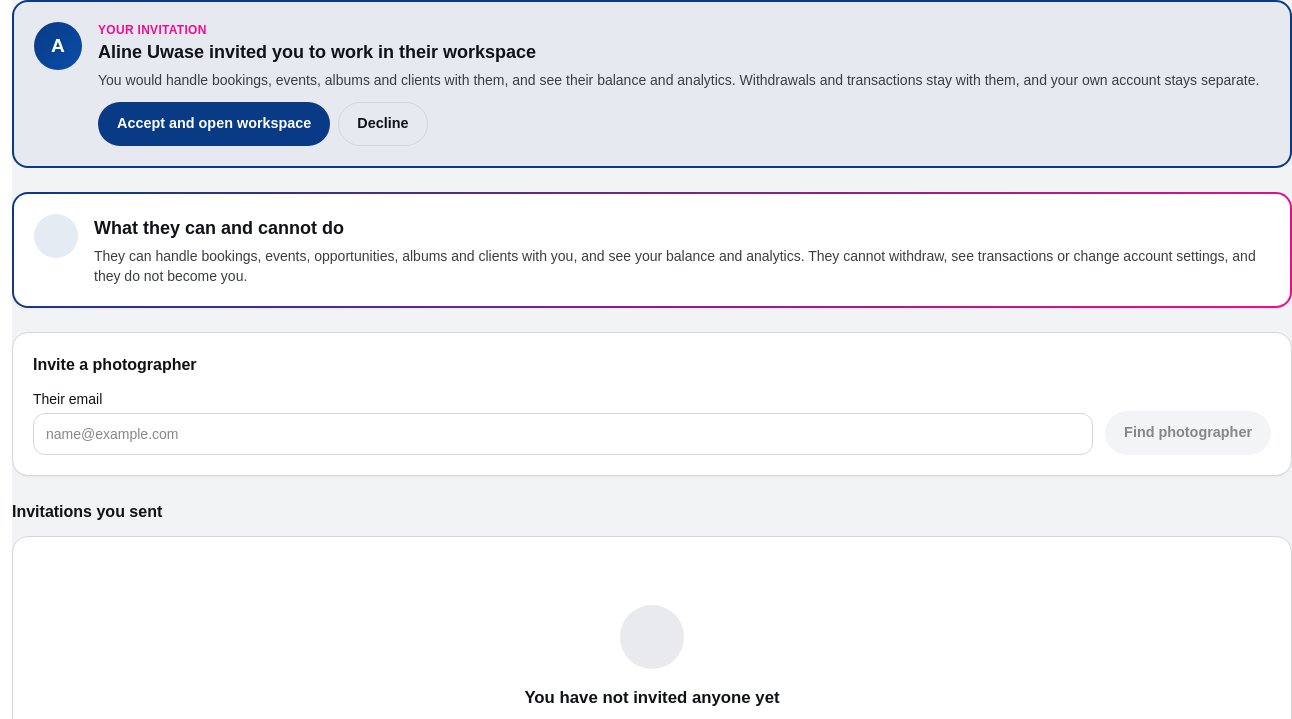
Test: opening an invitation from its link › shows a failed accept as an error and does not open the workspace
Click the button "Accept and open workspace" at (214,124), box [98,102,330,146]
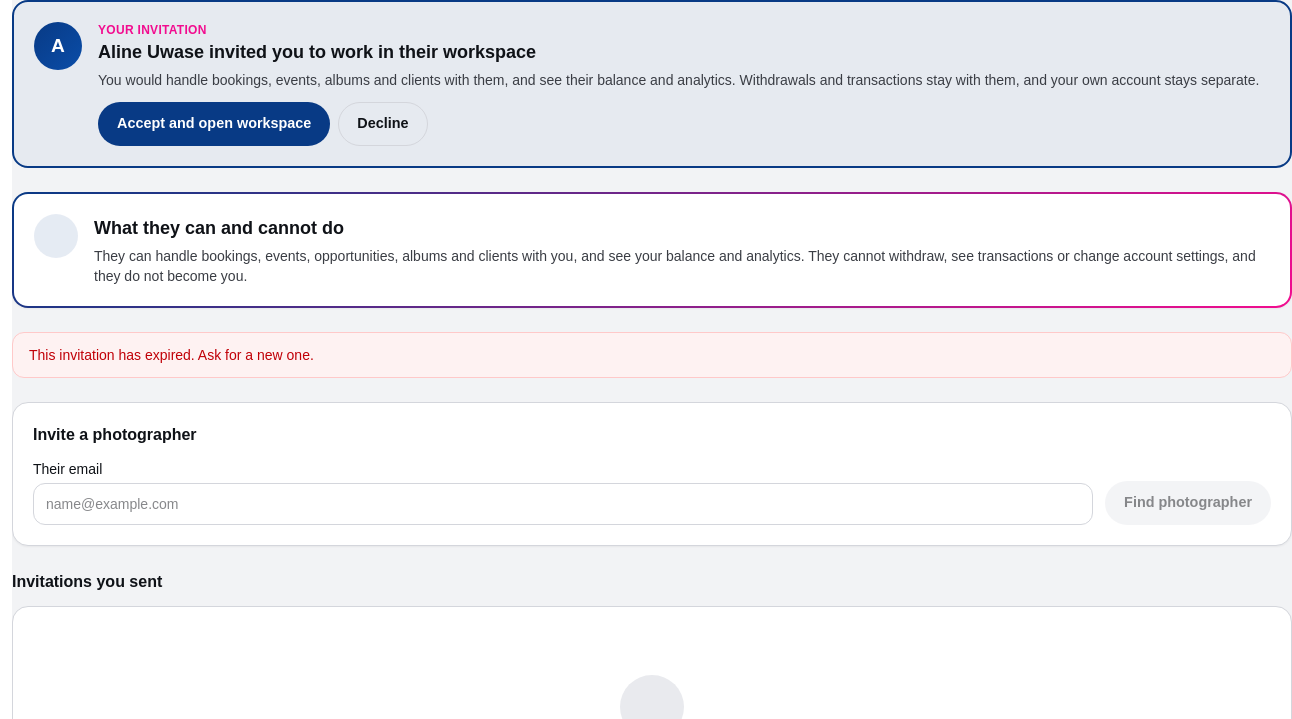
Check: the text "has expired" is shown, box [29,347,314,363]
